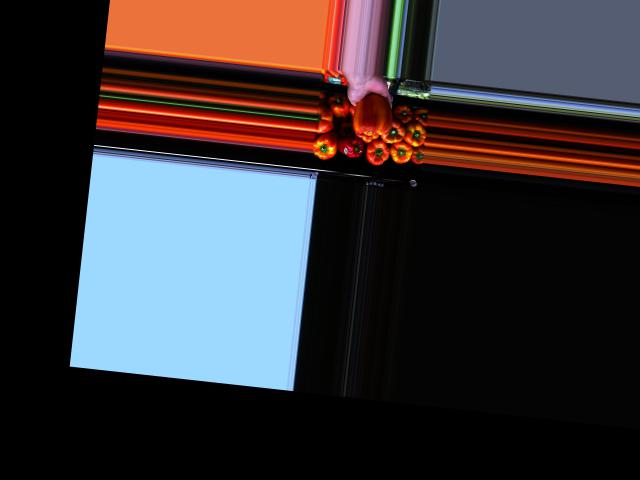bell_pepper: (324, 95, 352, 119)
